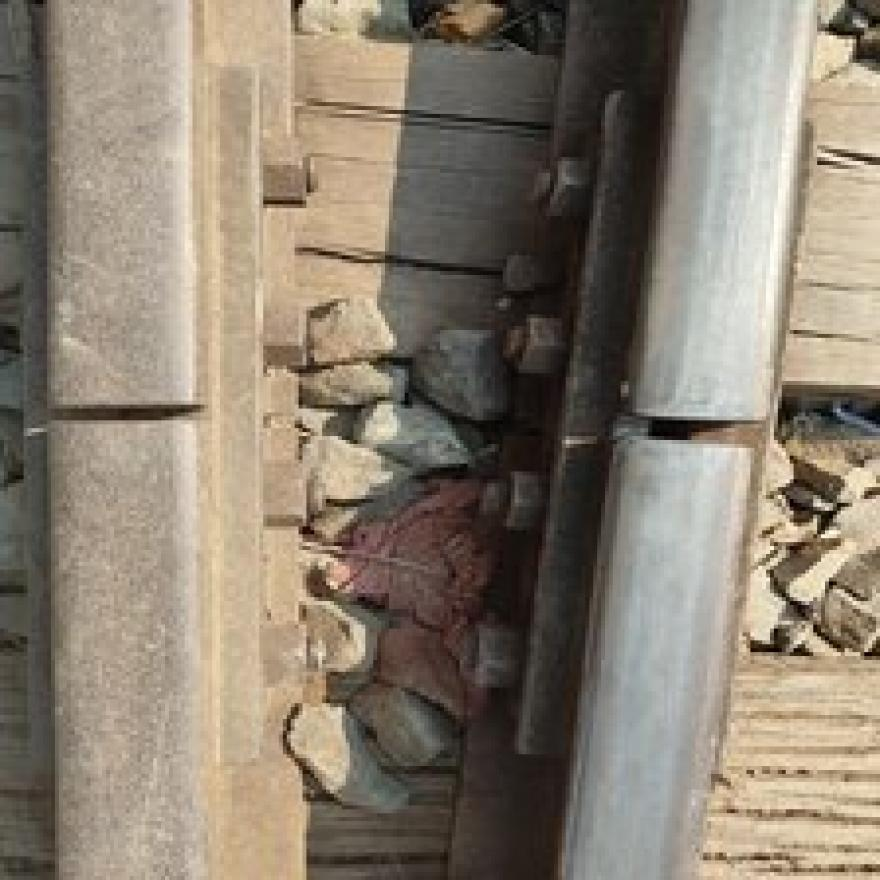railway-gap: (6, 259, 246, 565), (563, 309, 815, 551)
